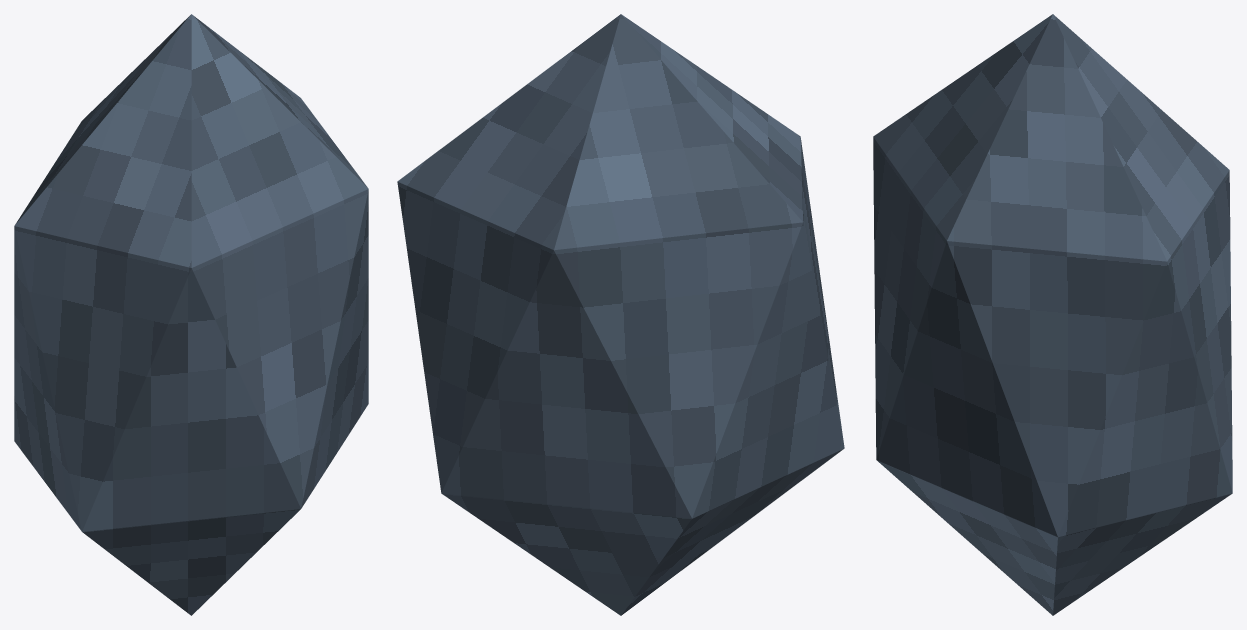
File: rock_47.glb
3 views of the same model, side by side, from view 1: azimuth 30°, elevation 25°; view 2: azimuth 150°, elevation 25°; view 3: azimuth 270°, elevation 25° (orthographic).
Parts seen in each view (by area): view 1: WeatheredStone; view 2: WeatheredStone; view 3: WeatheredStone.
Part boxes in pixels (box(x1,y1,x2,y2)): WeatheredStone: box(14, 14, 368, 615); WeatheredStone: box(397, 14, 844, 615); WeatheredStone: box(873, 14, 1232, 615).
Size of the model in its own units: 1.84 by 2.94 by 1.59.
1 material, 1 textured.
